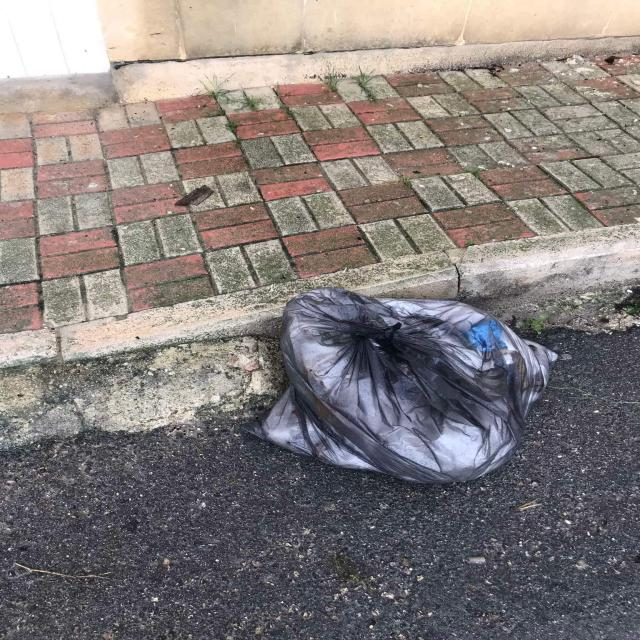Mixed Waste -Black Bag-: (241, 288, 561, 487)
